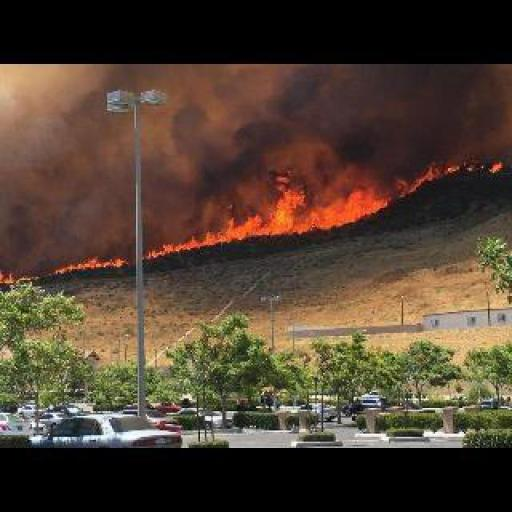smoke: (144, 179, 384, 261), (402, 158, 504, 197), (2, 256, 123, 283)
